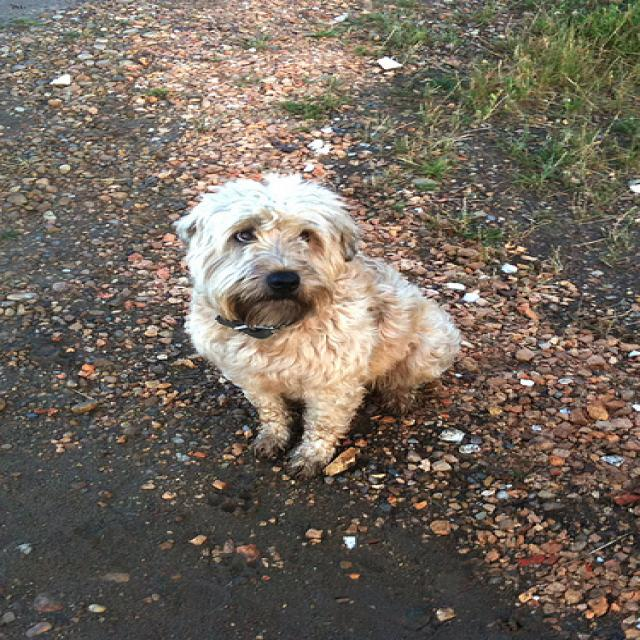dog-wheaten_terrier: (162, 166, 469, 484)
